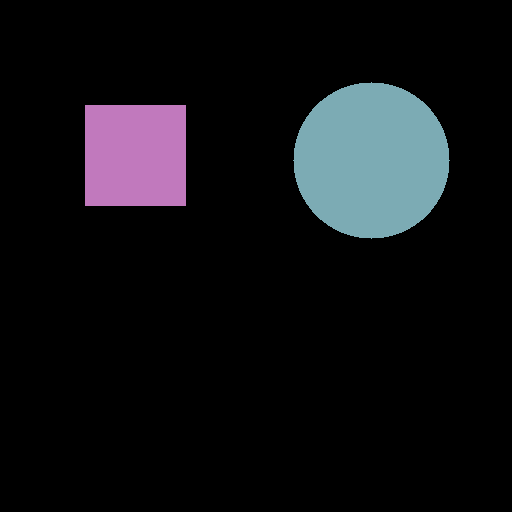circle: (293, 82, 449, 238)
square: (85, 105, 185, 205)
